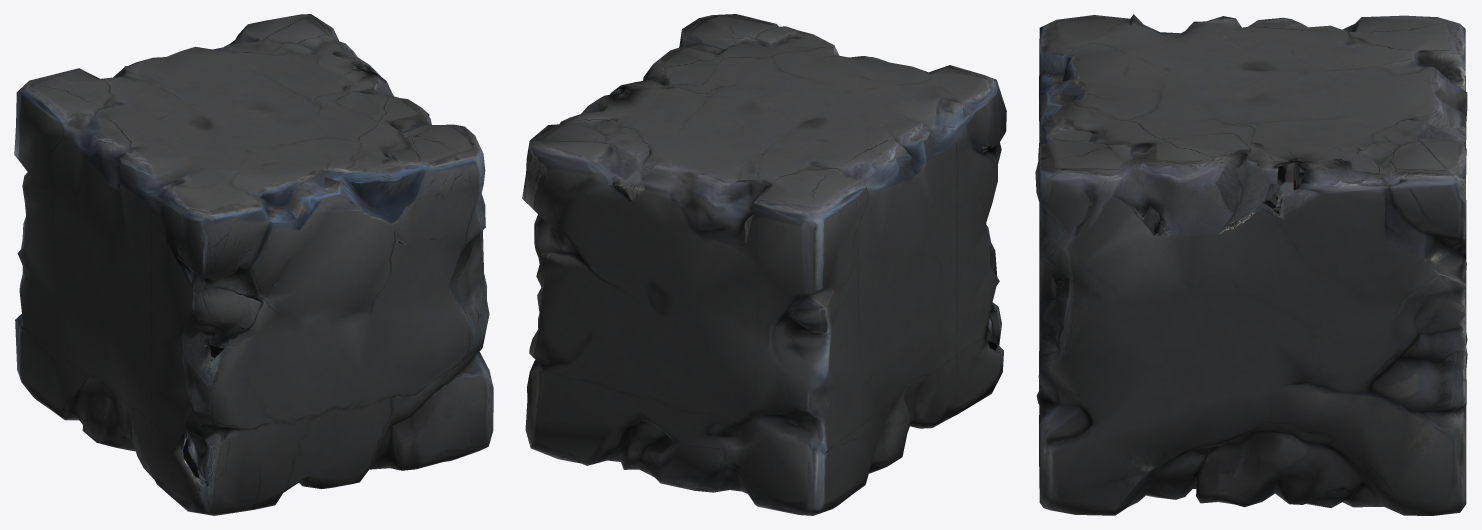
The model's file is DungeonBlackCube1.fbx.
The picture shows the model from 3 angles, left to right: view 1: azimuth 30°, elevation 25°; view 2: azimuth 150°, elevation 25°; view 3: azimuth 270°, elevation 25°; orthographic projection. The views are drawn at different scales.
Visible parts, largest first — view 1: input; view 2: input; view 3: input.
Part boxes in pixels (bbox=[...]): input: bbox=[14, 14, 493, 515]; input: bbox=[522, 14, 1006, 515]; input: bbox=[1035, 14, 1467, 515].
Size of the model in its own units: 135 by 135 by 151.
1 material, 1 textured.
